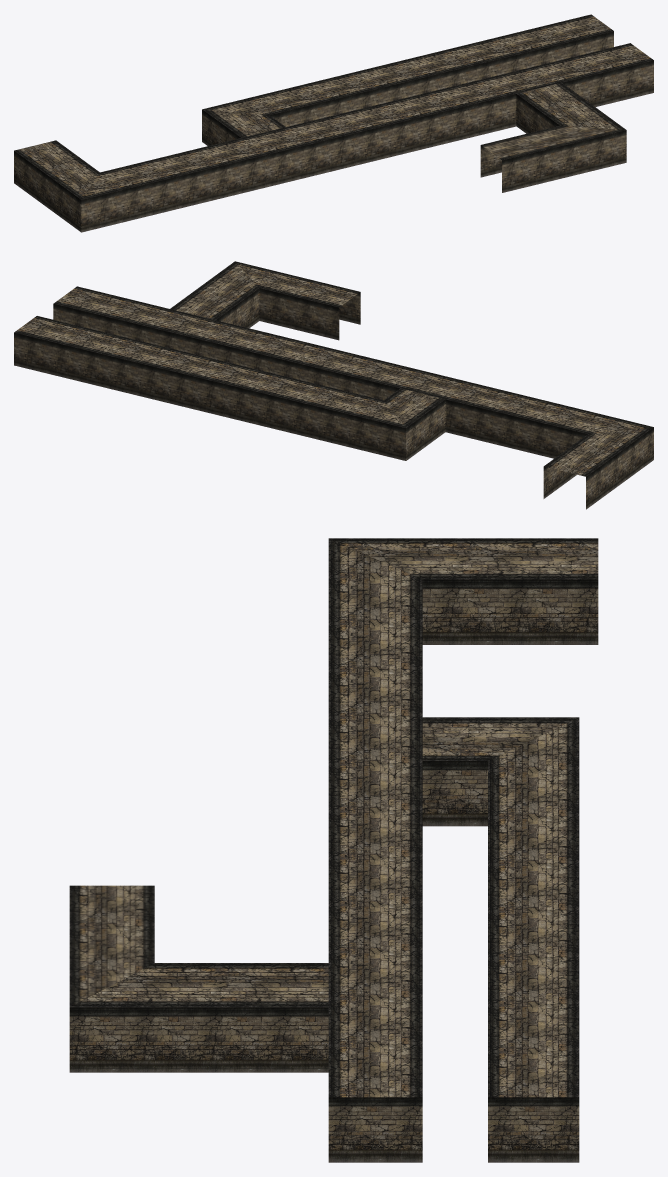
File: Old_PhoenixCastle_Tunnel_destruct_wall01.FBX
The picture shows the model from 3 angles, top to bottom: view 1: azimuth 30°, elevation 25°; view 2: azimuth 150°, elevation 25°; view 3: azimuth 270°, elevation 25°; orthographic projection. The views are drawn at different scales.
Parts seen in each view (by area): view 1: Object006; view 2: Object006; view 3: Object006.
Boxes of the visible parts, <box> form: Object006: <box>14,14,653,232</box>; Object006: <box>14,261,653,509</box>; Object006: <box>69,538,598,1162</box>.
Bounding box in the file's own units: 10149 × 553 × 4057.
2 materials, 2 textured.
